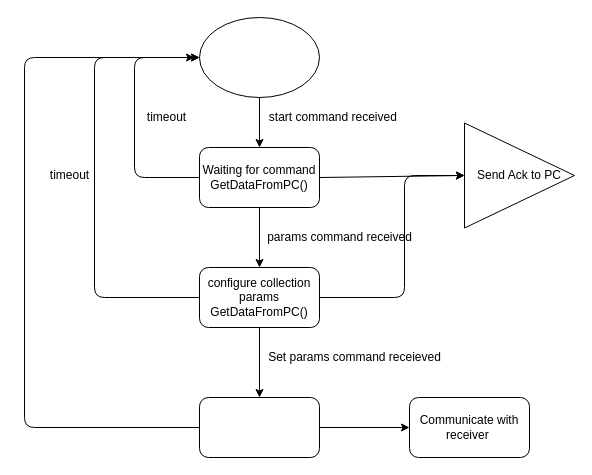
Some shapes in this 592 by 475 pixel diagram are drawn without their labels. Here are the shapes that lost their labels. From the top down, the centre of each, then its label:
the point at 259,57: idle
the point at 259,427: Set collection params GetDataFromPC()
